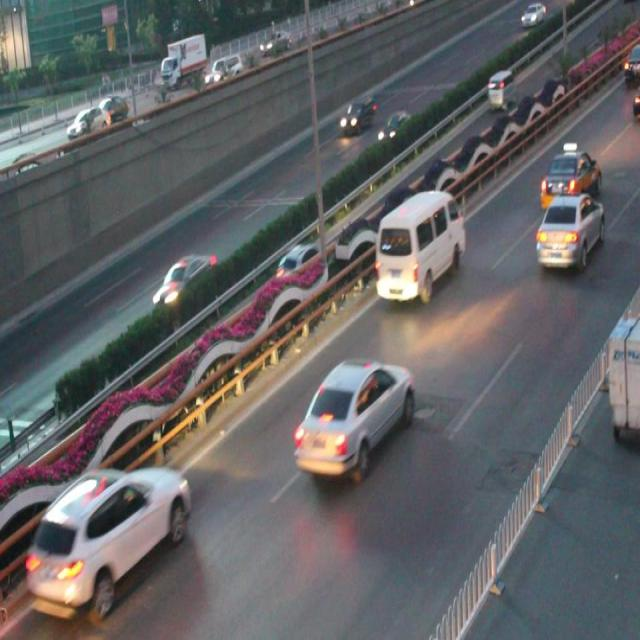car: (27, 460, 189, 611), (294, 355, 416, 479), (534, 195, 605, 268), (538, 146, 602, 211), (152, 252, 217, 304), (274, 242, 318, 278), (338, 94, 376, 135), (375, 107, 412, 147)
truck: (374, 191, 465, 304), (484, 68, 516, 112)
